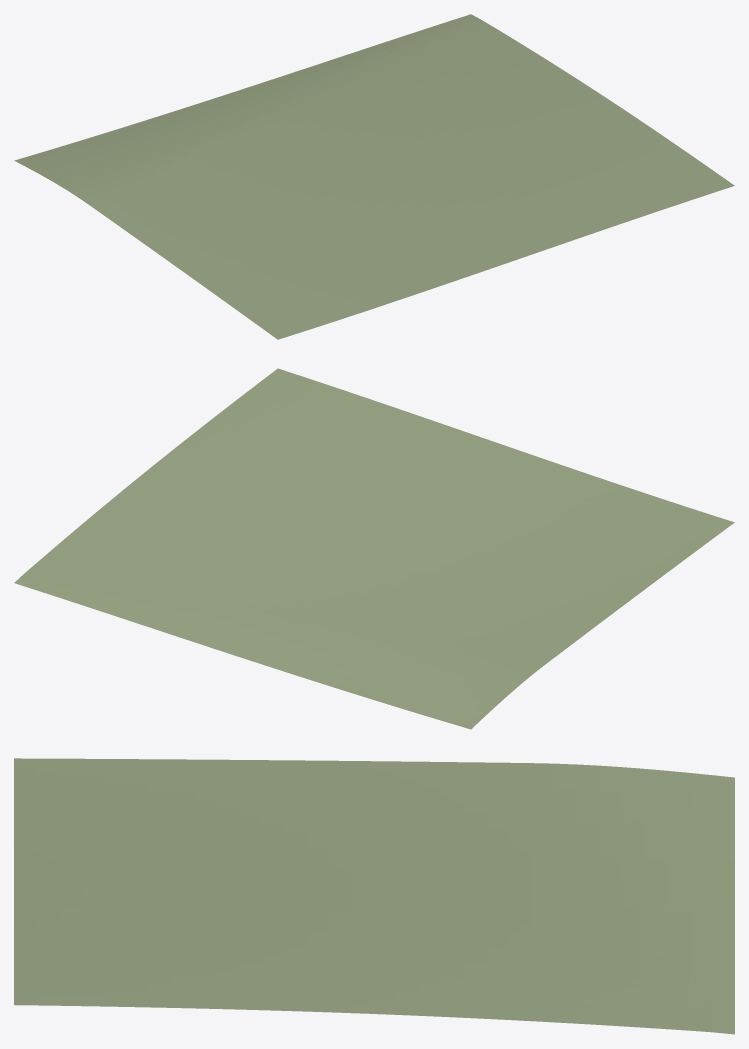
File: valley-5-9.glb
3 renders of one model, top to bottom at view 1: azimuth 30°, elevation 25°; view 2: azimuth 150°, elevation 25°; view 3: azimuth 270°, elevation 25°, orthographic. The views are drawn at different scales.
Parts seen in each view (by area): view 1: valley-5-9; view 2: valley-5-9; view 3: valley-5-9.
Boxes of the visible parts, x1,y1,x2,y2 form: valley-5-9: (14,14,734,339); valley-5-9: (14,368,734,729); valley-5-9: (14,758,734,1034).
Size of the model in its own units: 256 by 30.21 by 256.
